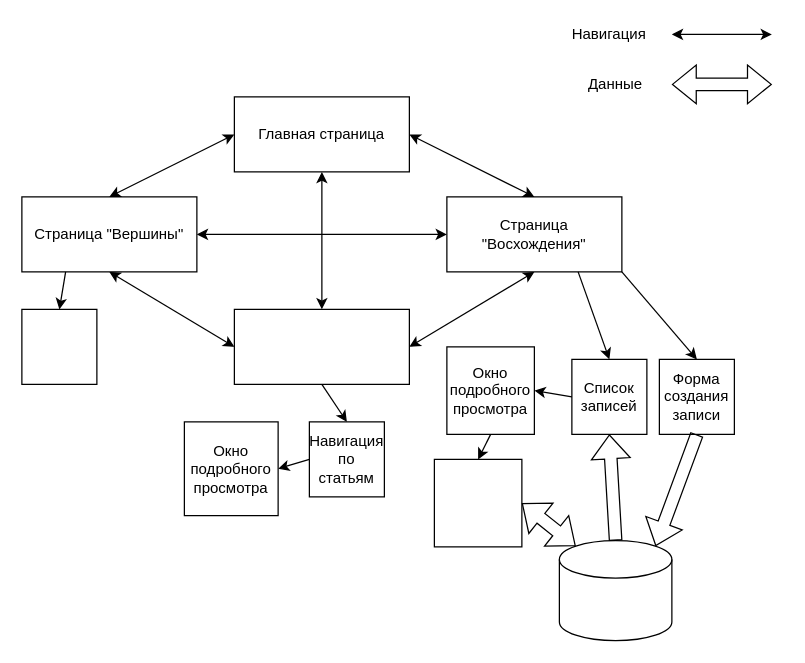
Some shapes in this 805 by 663 pixel diagram are drawn without their labels. Here are the shapes that lost their labels. From the top down, the centre of each, then its label:
the point at 59,346: Список вершин
the point at 321,346: Страница "Снаряжение"
the point at 477,502: Форма изменения записи
the point at 615,590: IndexedDB
